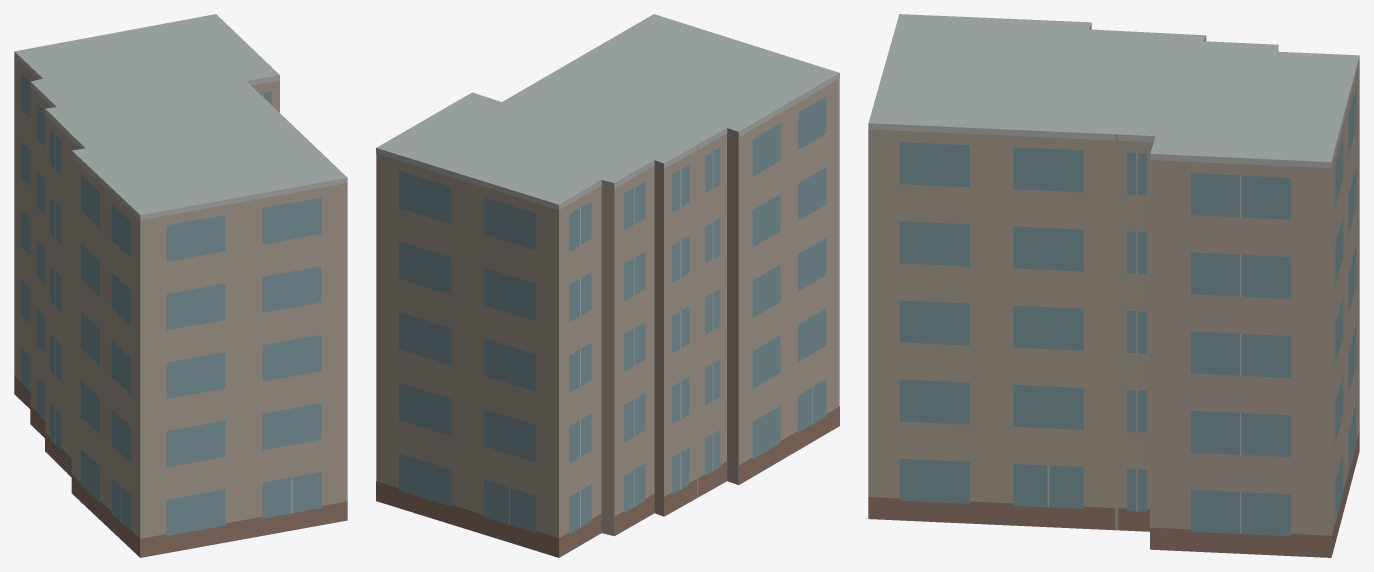
File: survey-upis-32923020.glb
The picture shows the model from 3 angles, left to right: view 1: azimuth 30°, elevation 25°; view 2: azimuth 150°, elevation 25°; view 3: azimuth 270°, elevation 25°; orthographic projection. The views are drawn at different scales.
Visible parts, largest first — view 1: survey-upis-32923020.tmp; view 2: survey-upis-32923020.tmp; view 3: survey-upis-32923020.tmp.
Boxes of the visible parts, x1=… form: survey-upis-32923020.tmp: x1=14, y1=14, x2=347, y2=557; survey-upis-32923020.tmp: x1=376, y1=14, x2=839, y2=557; survey-upis-32923020.tmp: x1=868, y1=14, x2=1359, y2=557.
Size of the model in its own units: 12.61 by 15.7 by 17.67.
